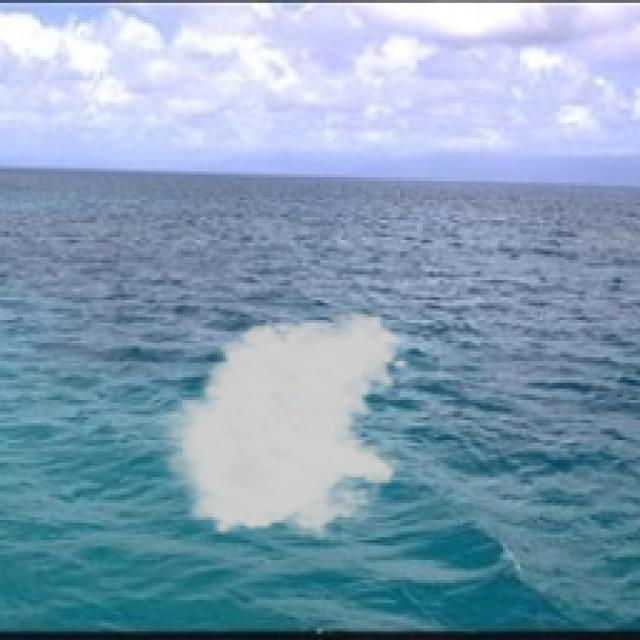smoke: (152, 308, 412, 548)
